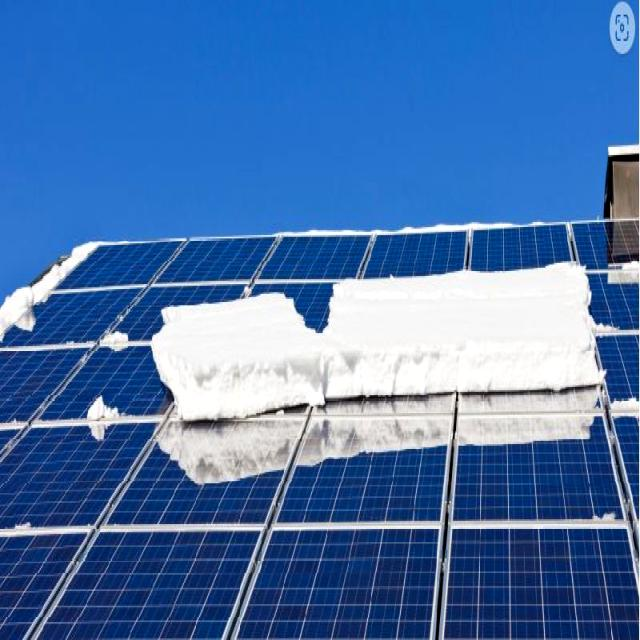panel: (522, 244, 591, 377), (463, 253, 518, 369), (270, 276, 346, 346), (575, 294, 634, 377), (36, 228, 110, 288), (191, 290, 261, 348), (478, 380, 560, 428), (418, 250, 458, 348), (160, 376, 219, 441), (140, 287, 186, 368), (342, 266, 384, 348), (383, 256, 420, 346), (398, 370, 459, 422), (570, 374, 623, 432), (0, 280, 45, 344), (316, 381, 374, 424), (230, 400, 300, 434), (600, 242, 640, 292), (89, 390, 122, 436), (11, 499, 36, 552), (96, 326, 130, 360)
